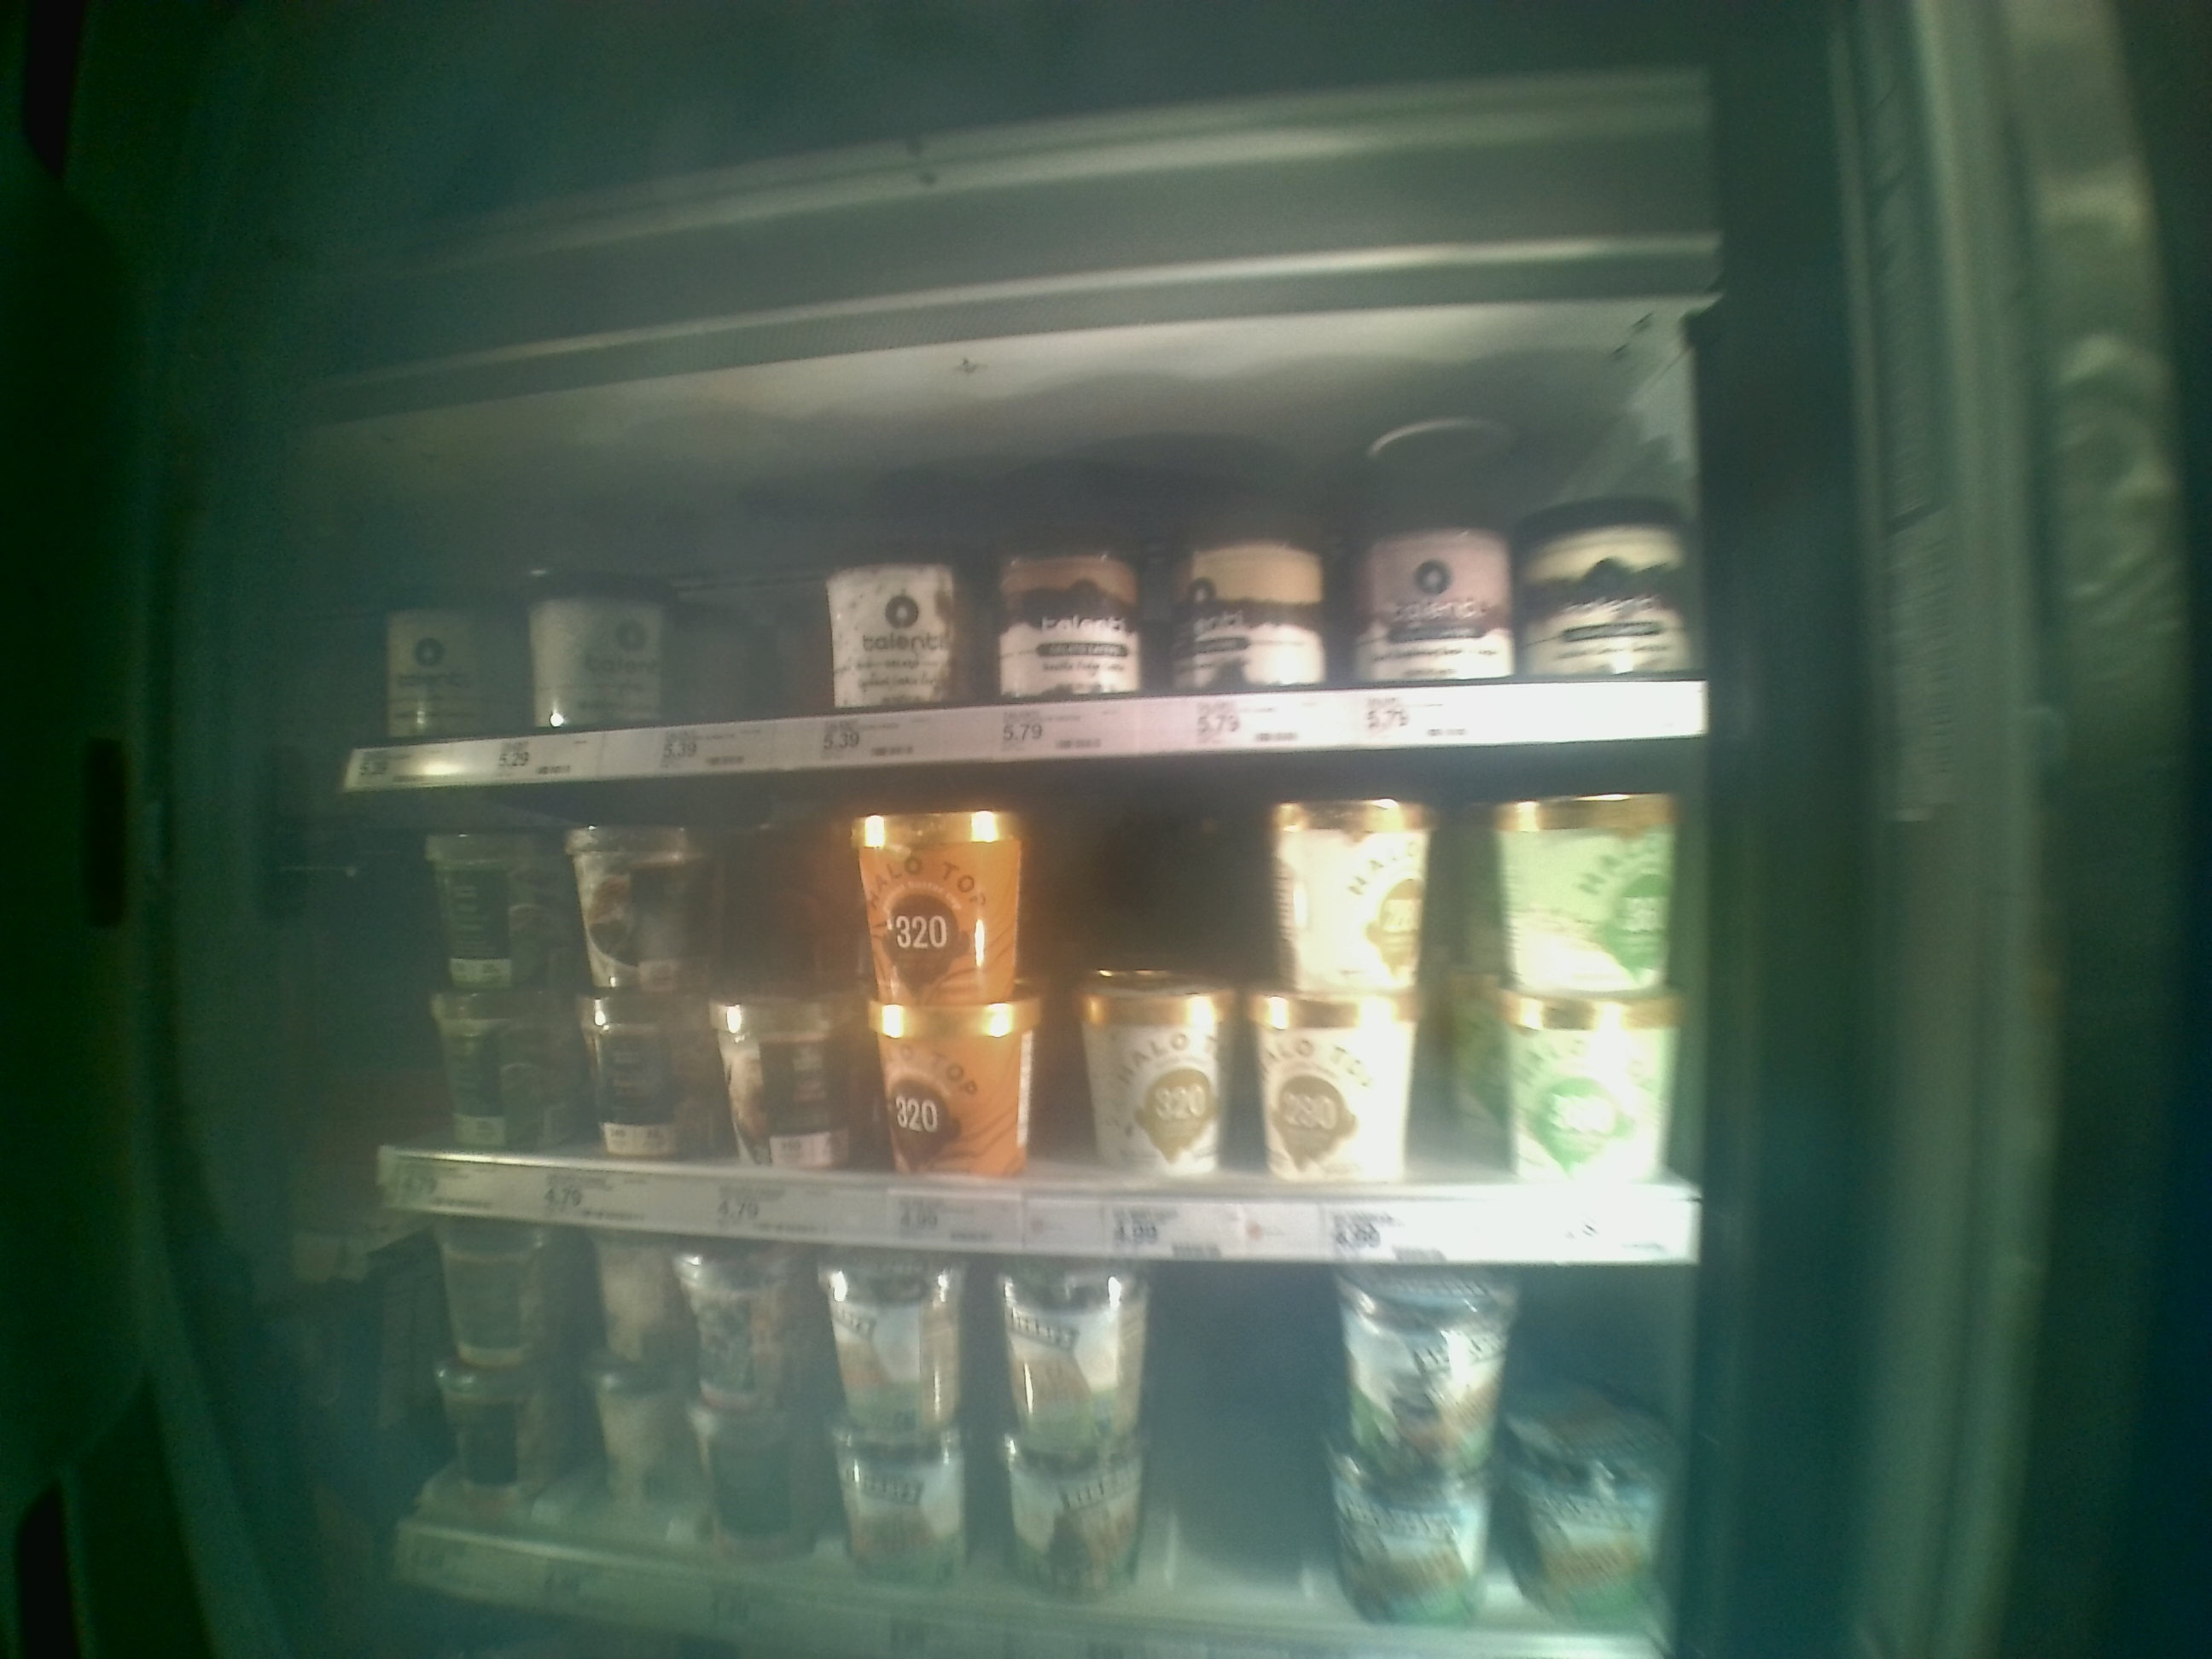ice-cream-shelf: (369, 779, 1707, 1255)
